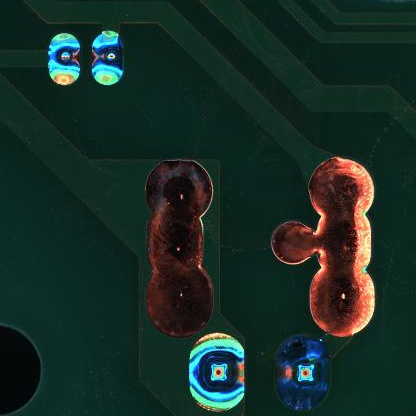spot: (189, 331, 244, 413), (275, 335, 331, 412), (91, 28, 125, 86), (47, 31, 82, 87)
